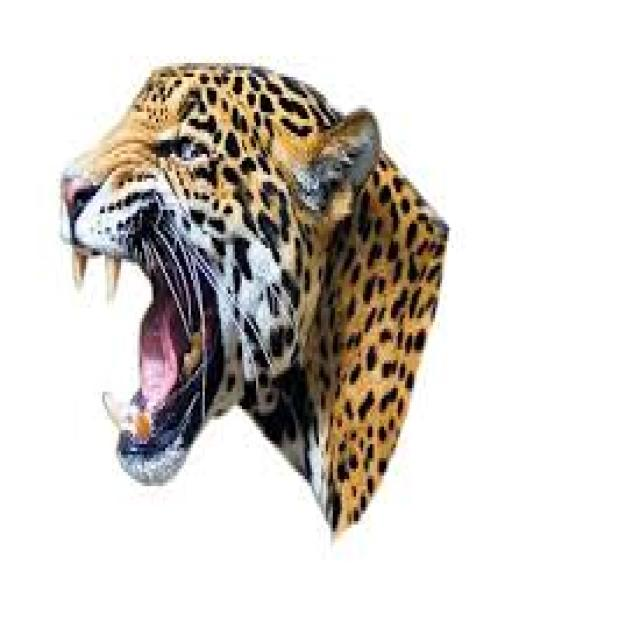Jaguar: (58, 60, 454, 552)
